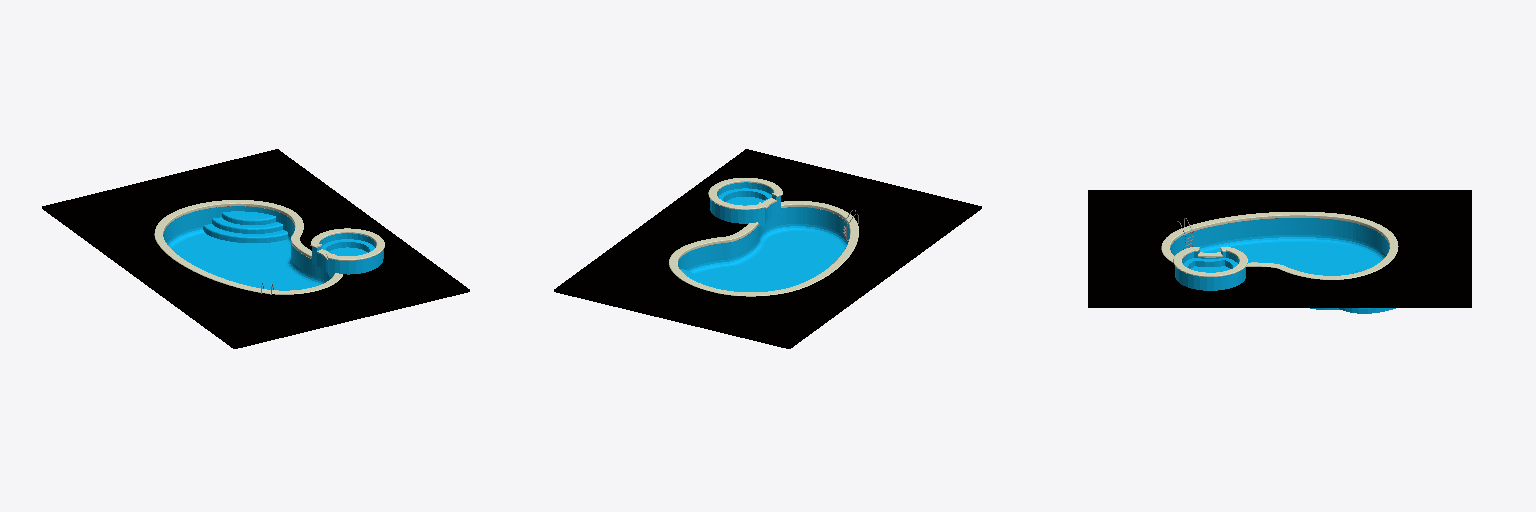
The model's file is rinon.obj.
3 renders of one model, left to right at view 1: azimuth 30°, elevation 25°; view 2: azimuth 150°, elevation 25°; view 3: azimuth 270°, elevation 25°, orthographic.
Parts seen in each view (by area): view 1: rinon_suelo_sombra, rinon_sombra, rinon_borde_sombra, escalera_obra_rinon_sombra, jacuzzi_rinon_sombra, jacuzzi_borde_rinon_sombra; view 2: rinon_suelo_sombra, rinon_sombra, rinon_borde_sombra, jacuzzi_rinon_sombra, jacuzzi_borde_rinon_sombra; view 3: rinon_suelo_sombra, rinon_sombra, rinon_borde_sombra, jacuzzi_rinon_sombra, jacuzzi_borde_rinon_sombra.
Part boxes in pixels (x1,y1,x2,y2): rinon_suelo_sombra: (42,149,469,348); rinon_sombra: (163,206,331,290); rinon_borde_sombra: (154,200,342,294); escalera_obra_rinon_sombra: (203,211,287,242); jacuzzi_rinon_sombra: (312,233,383,276); jacuzzi_borde_rinon_sombra: (310,228,384,260); rinon_suelo_sombra: (554,149,981,348); rinon_sombra: (678,207,849,291); rinon_borde_sombra: (669,201,858,296); jacuzzi_rinon_sombra: (710,182,780,226); jacuzzi_borde_rinon_sombra: (708,178,782,209); rinon_suelo_sombra: (1088,190,1471,307); rinon_sombra: (1170,218,1389,309); rinon_borde_sombra: (1161,212,1398,279); jacuzzi_rinon_sombra: (1175,250,1245,290); jacuzzi_borde_rinon_sombra: (1173,246,1247,276).
Bounding box in the file's own units: 669 × 128 × 945.